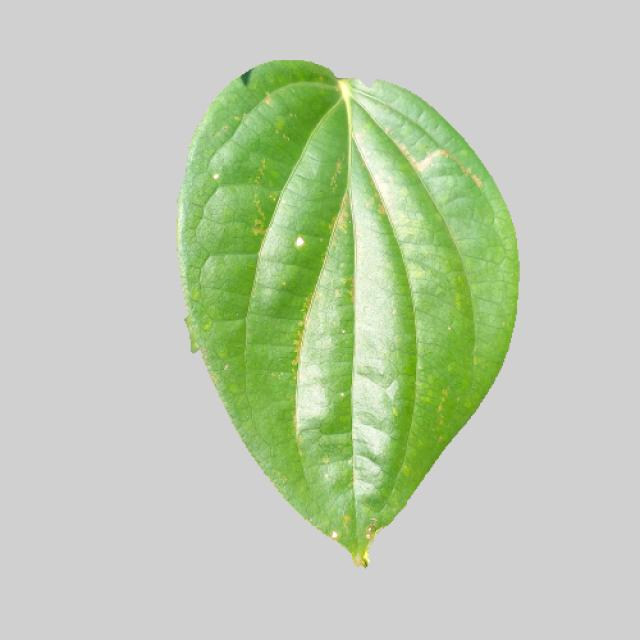healthy: (180, 52, 521, 574)
